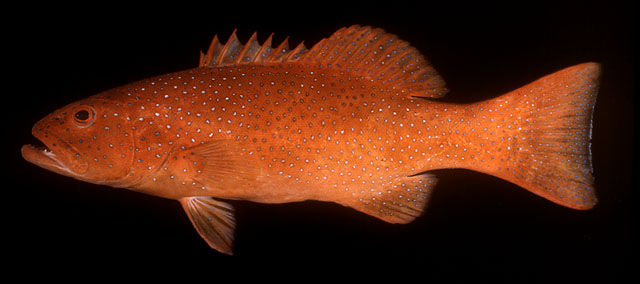fish: (21, 24, 604, 255)
